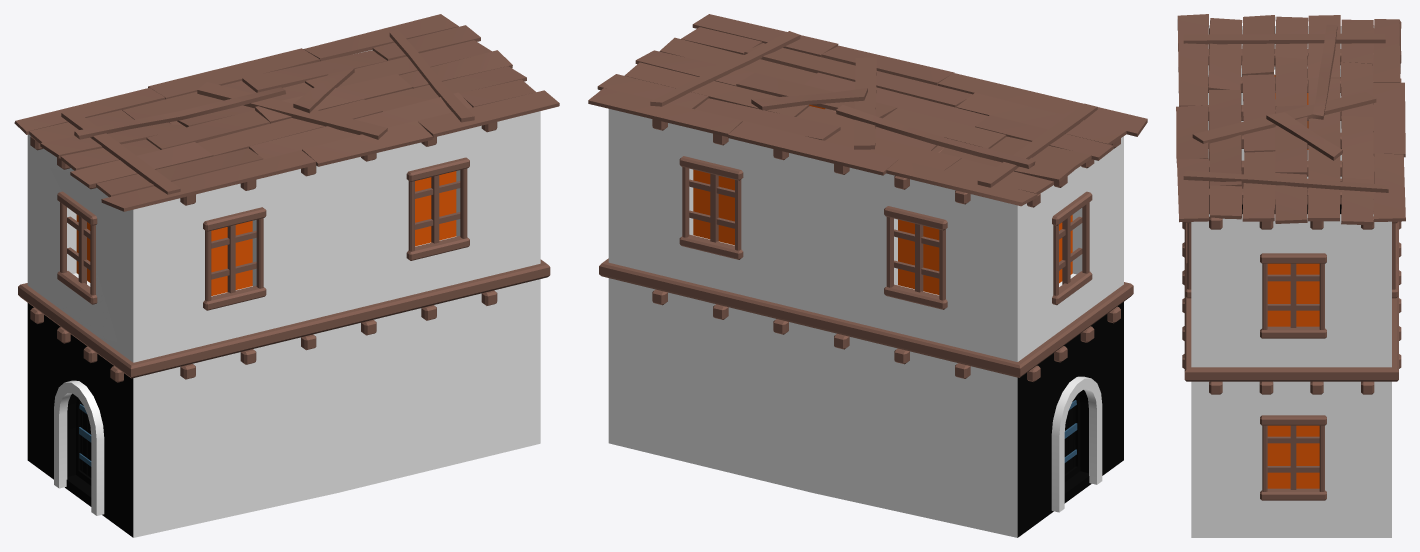
File: CivilianHouse02.fbx
3 views of the same model, side by side, from view 1: azimuth 30°, elevation 25°; view 2: azimuth 150°, elevation 25°; view 3: azimuth 270°, elevation 25° (orthographic). The views are drawn at different scales.
Parts seen in each view (by area): view 1: civilian_house_34_a_LOD0; view 2: civilian_house_34_a_LOD0; view 3: civilian_house_34_a_LOD0.
Part boxes in pixels (bbox=[...]): civilian_house_34_a_LOD0: bbox=[14, 14, 559, 537]; civilian_house_34_a_LOD0: bbox=[588, 14, 1147, 537]; civilian_house_34_a_LOD0: bbox=[1176, 14, 1405, 537].
Size of what is drawn, in the model's own units: 1107 by 829 by 515.
